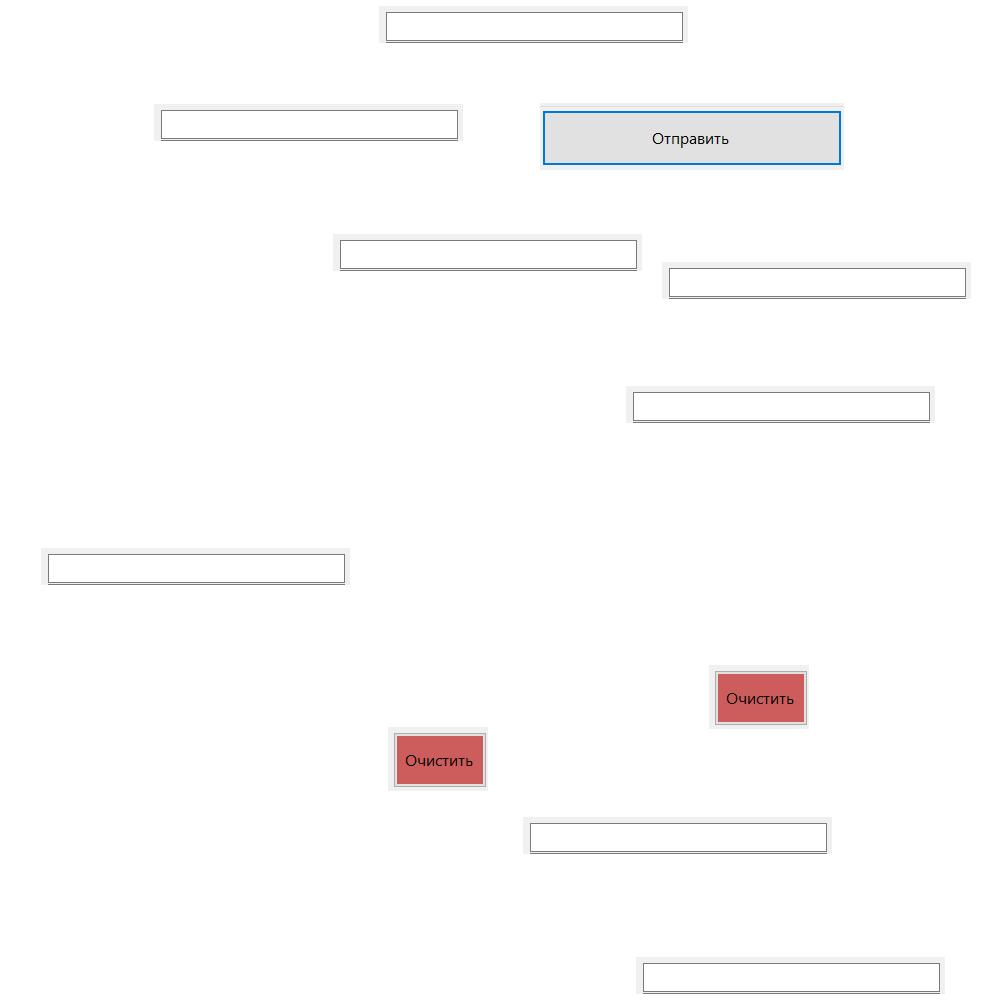Button: (540, 103, 844, 170), (709, 665, 809, 729), (388, 727, 488, 791)
EditText-: (523, 817, 832, 854), (154, 104, 463, 141), (333, 234, 642, 271), (379, 6, 688, 43), (626, 386, 935, 423), (636, 957, 945, 994), (41, 548, 350, 585), (662, 262, 971, 299)
